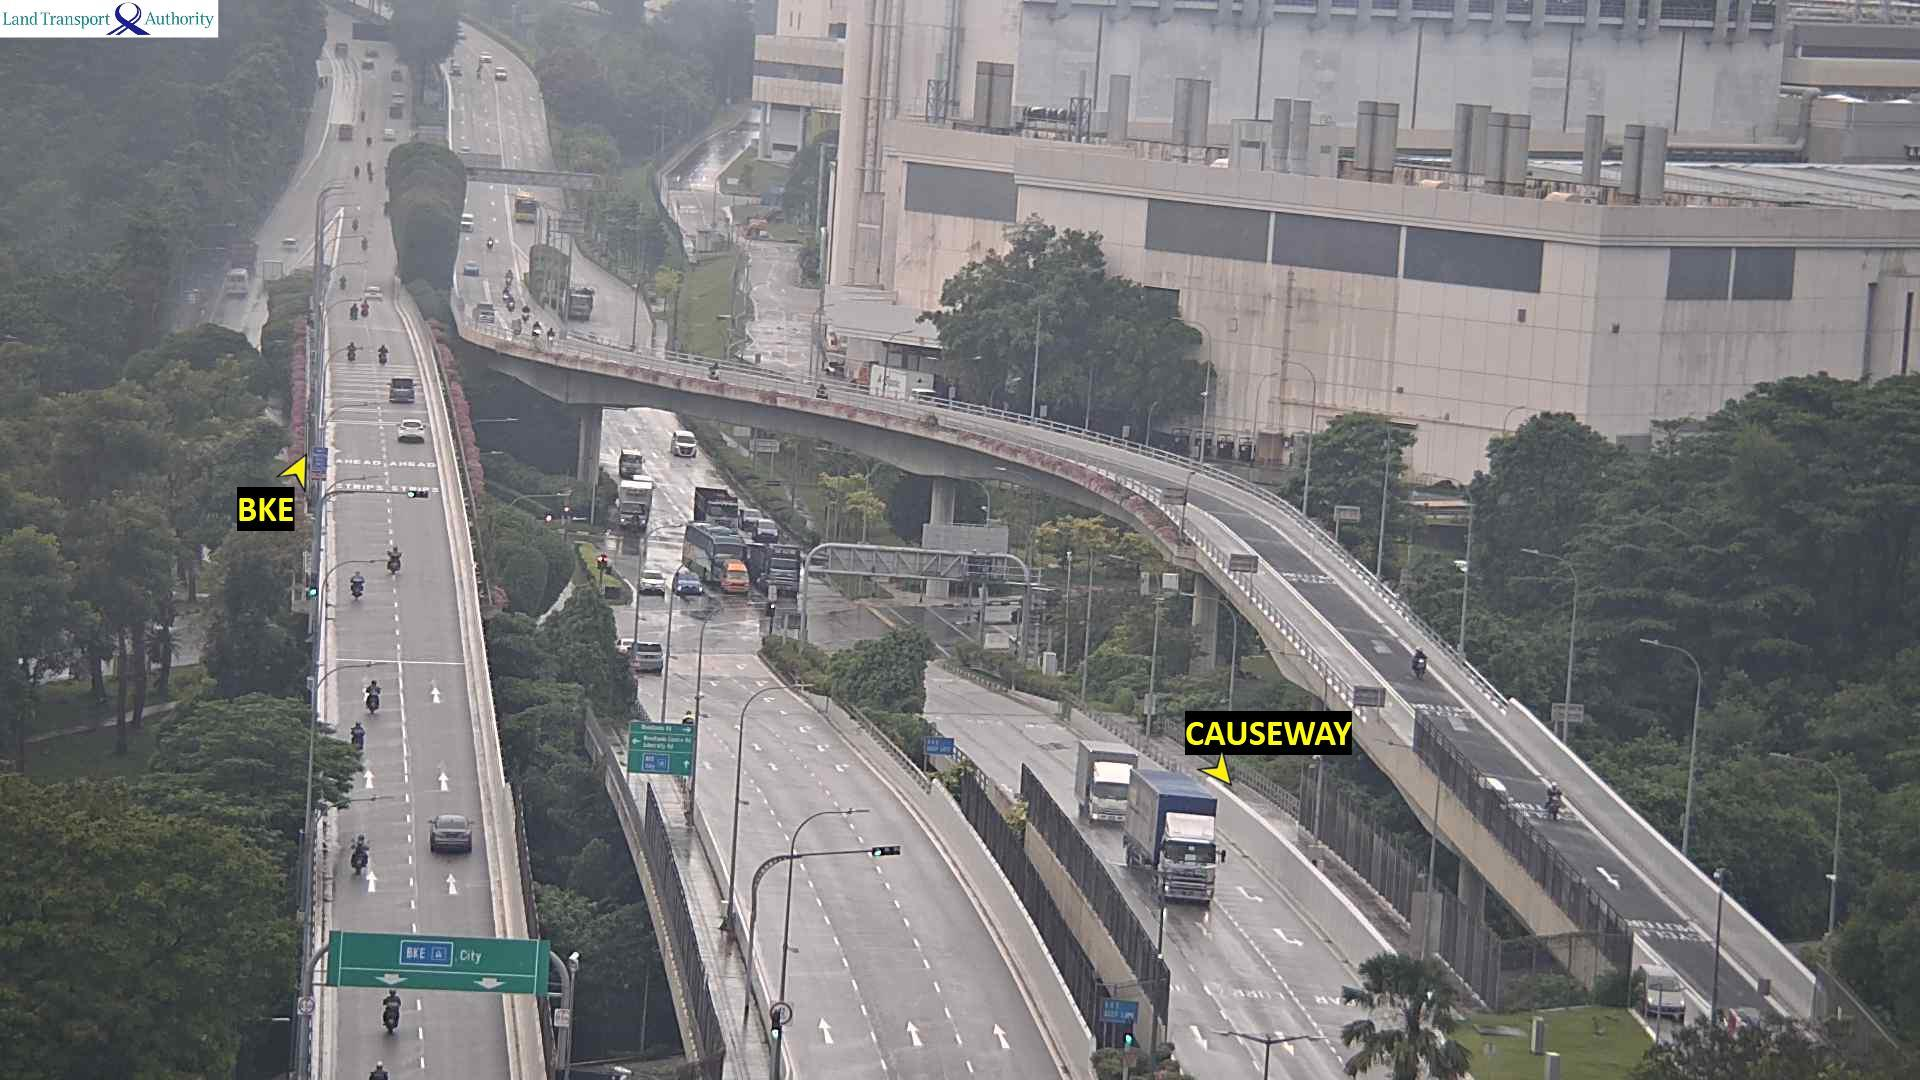vehicle-causeway-johor: (1130, 767, 1218, 906), (1077, 740, 1137, 823), (1547, 783, 1561, 823), (473, 302, 493, 327), (1411, 646, 1424, 676), (464, 261, 480, 276), (816, 385, 829, 400), (711, 363, 721, 378), (501, 289, 510, 299), (533, 323, 539, 338), (549, 330, 554, 345)
vehicle-causeway-singapore: (425, 811, 472, 853), (632, 644, 663, 674), (388, 376, 415, 405), (382, 990, 400, 1035), (349, 835, 368, 873), (364, 679, 382, 716), (397, 418, 423, 443), (368, 1060, 392, 1080), (388, 545, 402, 575), (351, 570, 364, 601), (353, 721, 365, 749), (617, 637, 640, 650), (364, 287, 382, 299), (380, 344, 389, 364), (361, 301, 372, 318), (348, 342, 356, 364), (351, 302, 356, 320), (340, 274, 345, 290)
